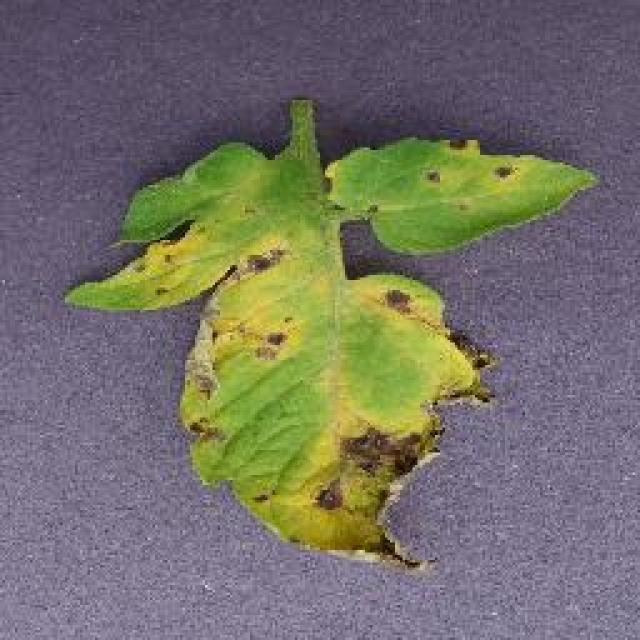Tomato___Septoria_leaf_spot: (65, 100, 592, 570)
